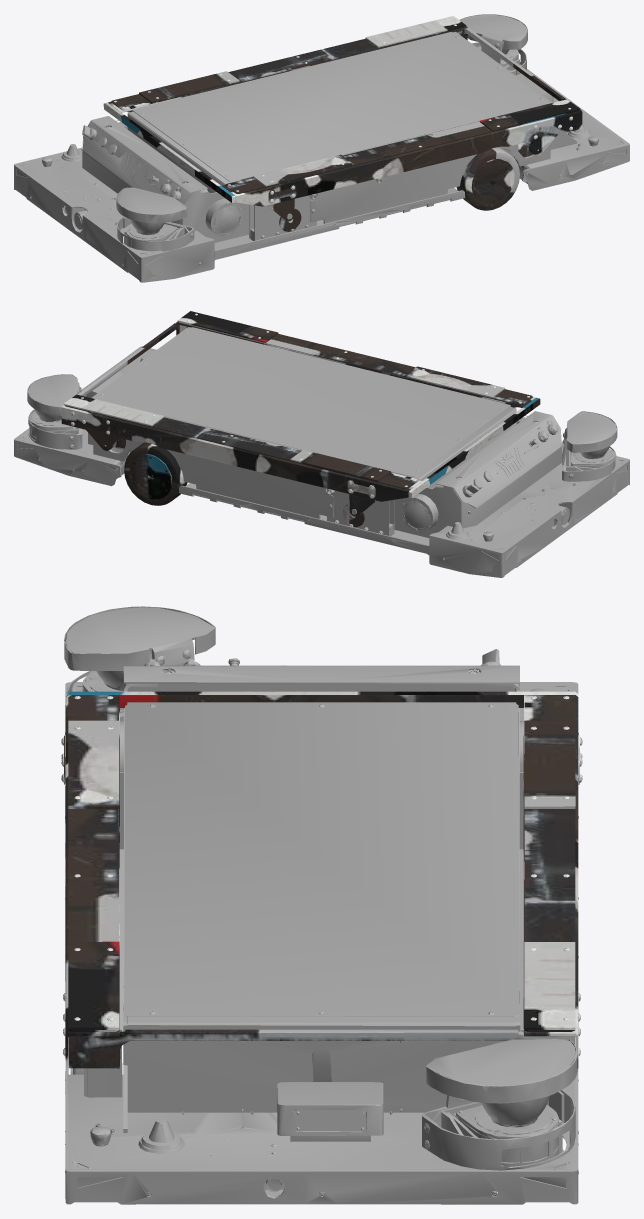
File: iw_hub.glb
3 renders of one model, top to bottom at view 1: azimuth 30°, elevation 25°; view 2: azimuth 150°, elevation 25°; view 3: azimuth 270°, elevation 25°, orthographic. The views are drawn at different scales.
Parts seen in each view (by area): view 1: root; view 2: root; view 3: root.
Boxes of the visible parts, x1,y1,x2,y2 form: root: [14, 14, 629, 282]; root: [14, 311, 629, 577]; root: [61, 606, 582, 1204].
Bounding box in the file's own units: 1.43 × 0.2307 × 0.6591.
3 materials, 1 textured.
